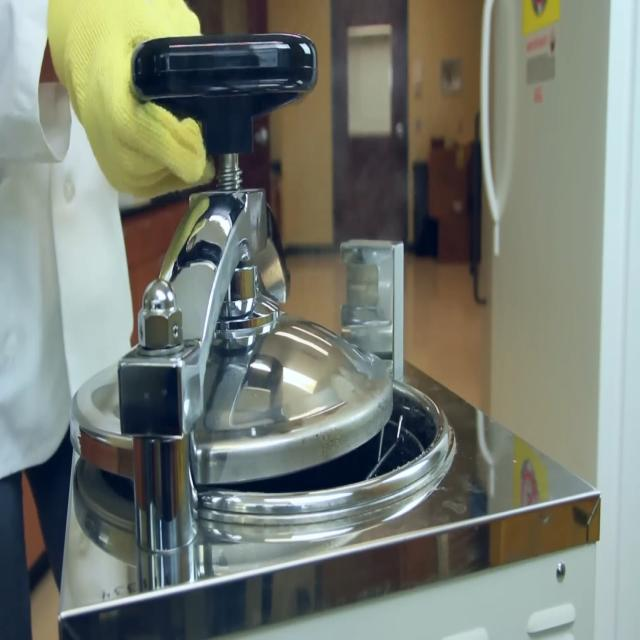labcoat: (0, 0, 142, 491)
